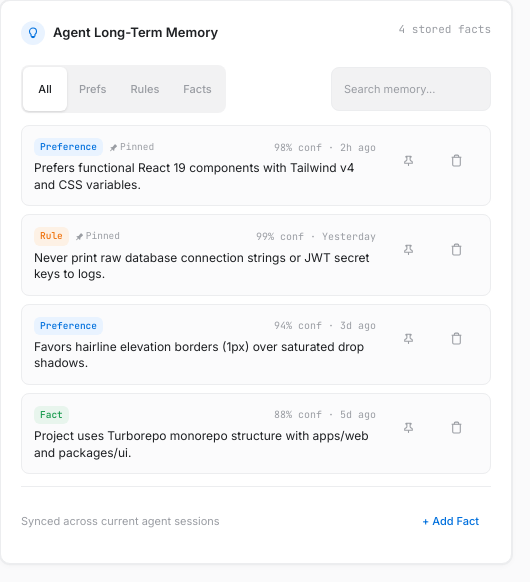
Scenario: MemoryInspector › uses selected filters and search with distinct authoritative results
This screenshot has width=530, height=582.
Click the button "Rules": {"x": 145, "y": 89} [118,67,171,111]
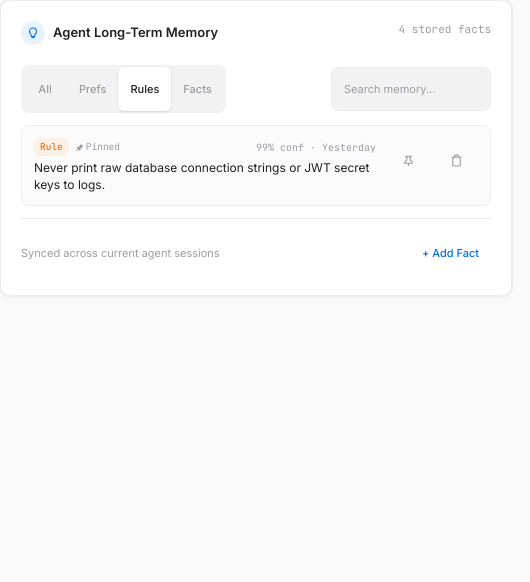
Expected: the text "Never print raw database" is shown, [34,160,370,192]
Expected: the number of list items is 1, [21,125,491,206]
Click the button "Facts": {"x": 198, "y": 89} [171,67,224,111]
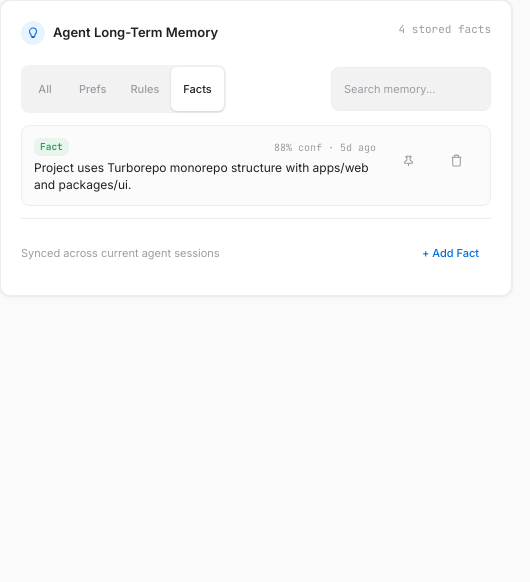
Expected: the number of list items is 1, [21,125,491,206]
Expected: the text "Project uses Turborepo" is shown, [34,160,369,192]
Click the button with aria-label "All memories": {"x": 45, "y": 89} [23,67,67,111]
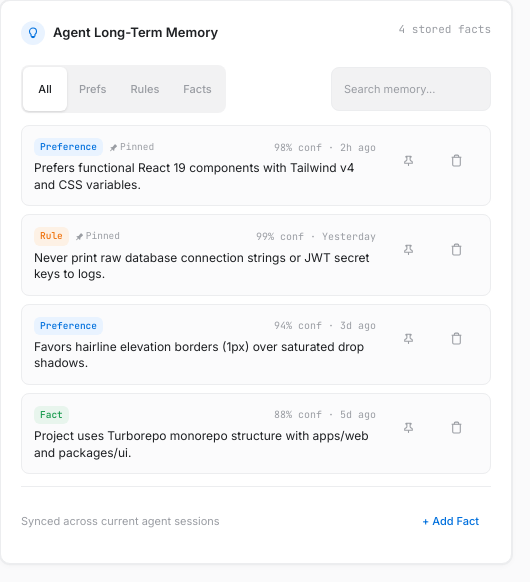
In the search field labelled "Search memory": {"x": 411, "y": 89} [331,67,491,111], type "Turborepo"
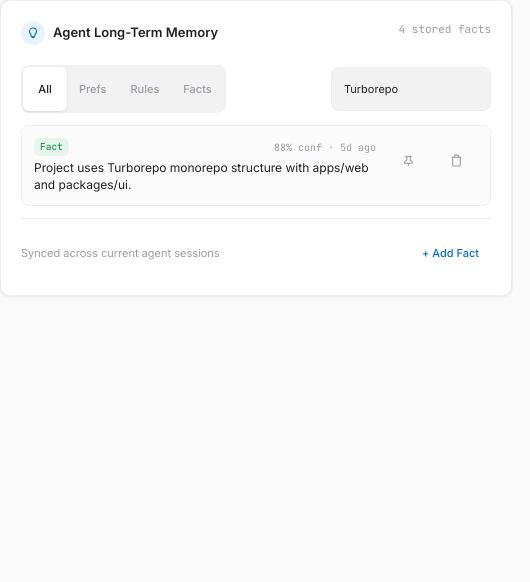
Expected: the text "Project uses Turborepo" is shown, [34,160,369,192]
Expected: the number of list items is 1, [21,125,491,206]
